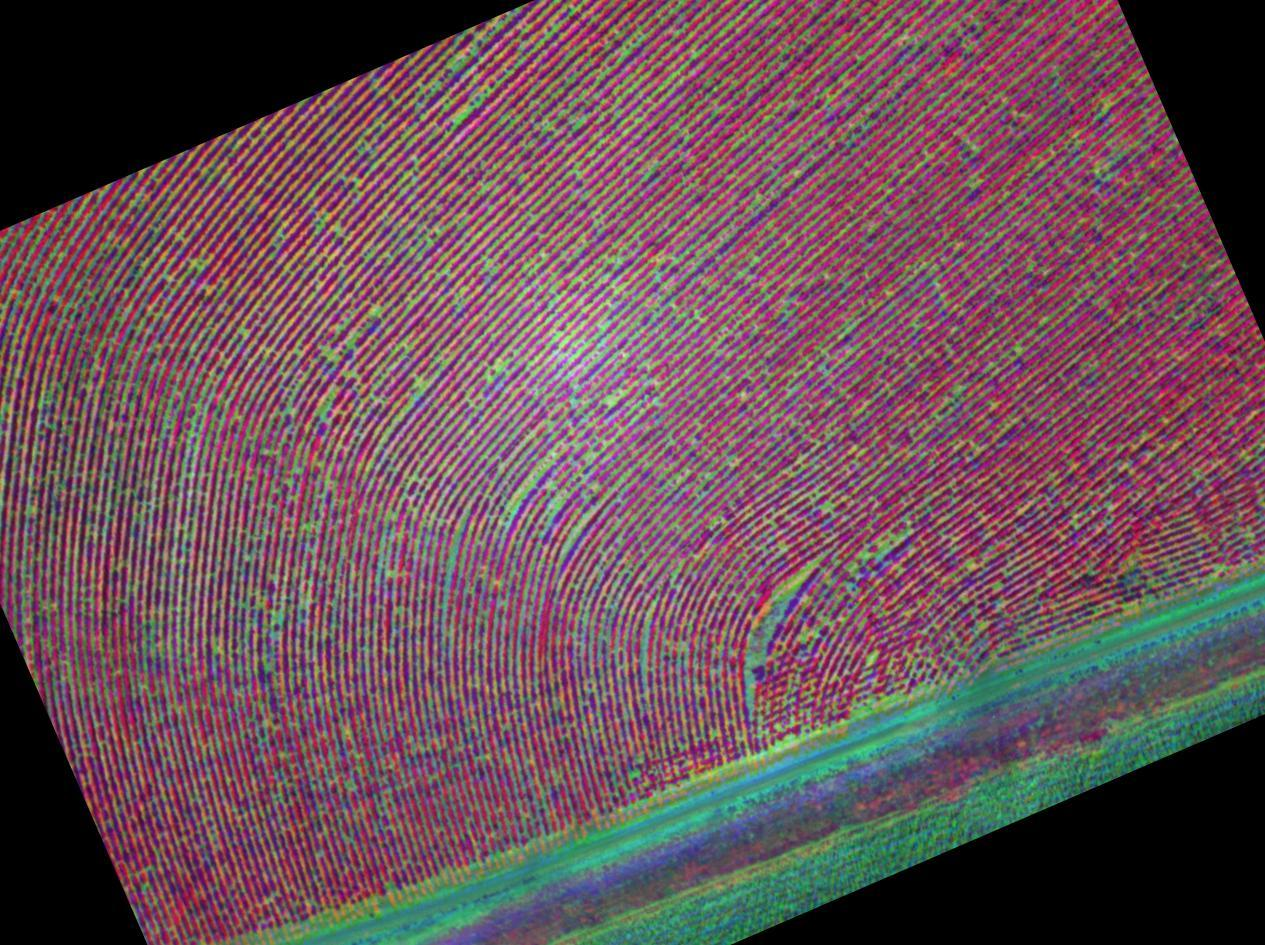dc: (61, 273, 154, 378), (293, 453, 401, 543), (48, 443, 143, 541), (433, 45, 520, 144), (738, 583, 816, 652)
